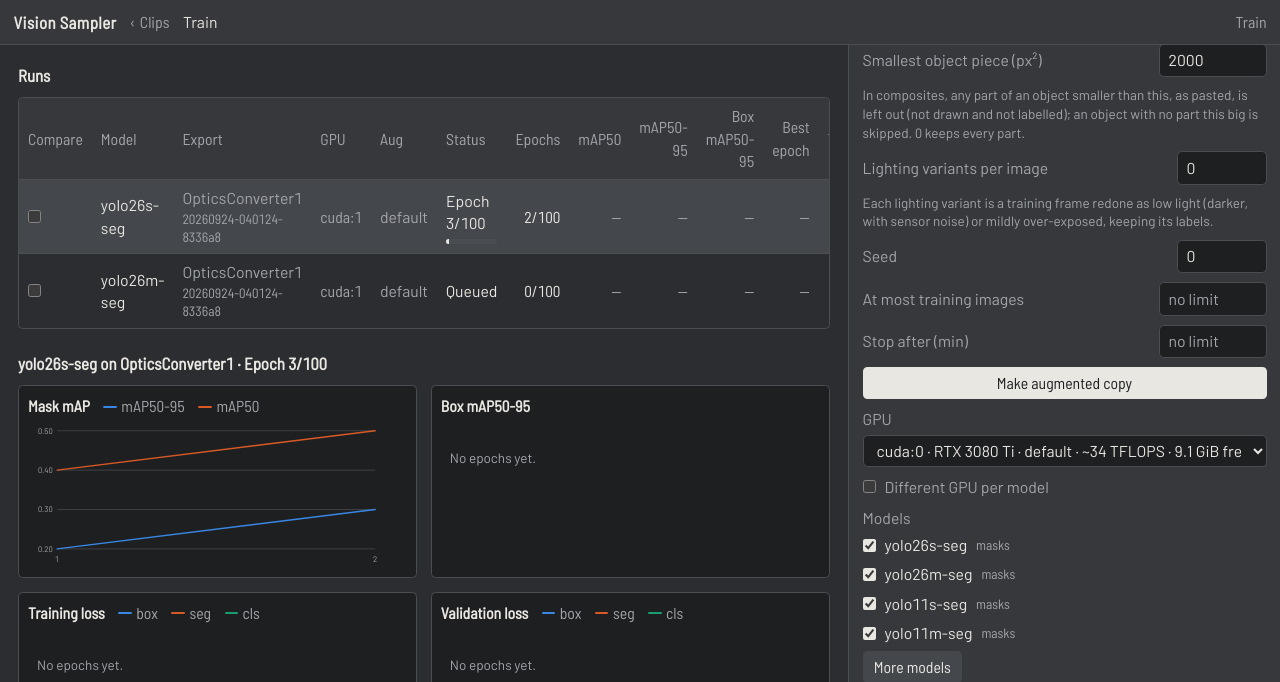
Test: Train page › after a time-limited augment, selects the new copy and says it stopped at the limit
(page scrolled)
Click the button "Make augmented copy": (1064, 383) [862,367,1266,399]
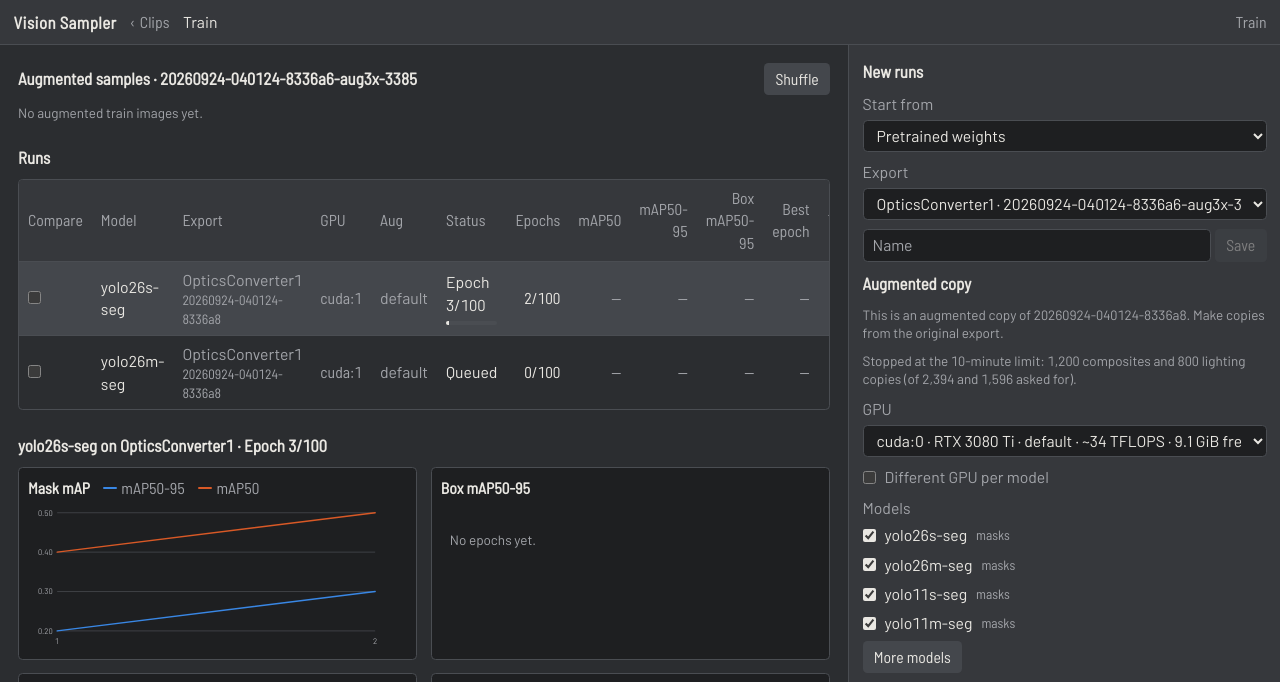
Expected: the dropdown labelled "Export" shows "OpticsConverter1 · 20260924-040124-8336a6-aug3x-3385 · 3192 train / 252 val", [862,188,1266,220]
Expected: the text "This is an augmented copy of 20260924-040124-8336a8. Make copies from the original export." is shown, [862,306,1265,341]
Expected: the text "Stopped at the 10-minute limit: 1,200 composites and 800 lighting copies (of 2,394 and 1,596 asked for)." is shown, [862,352,1246,387]
